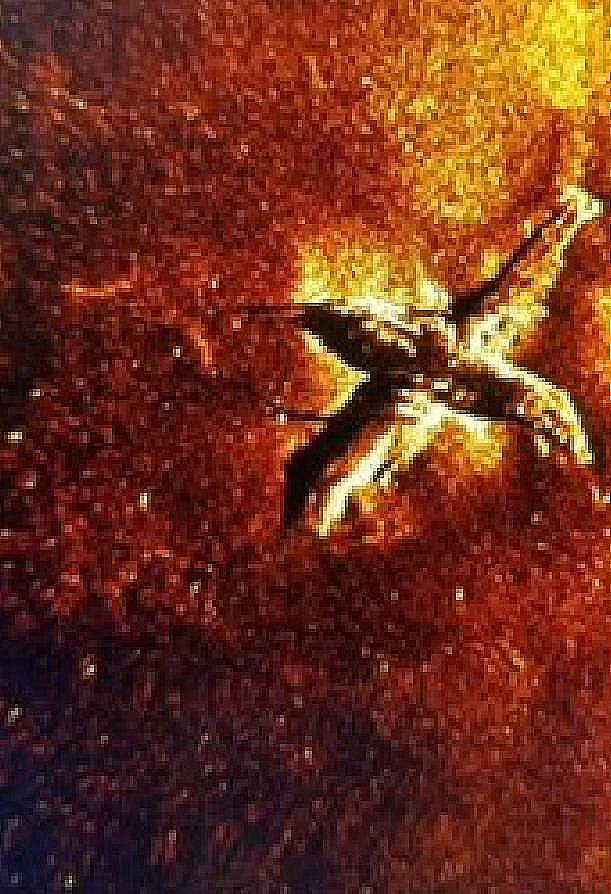aircraft: (290, 185, 602, 541)
